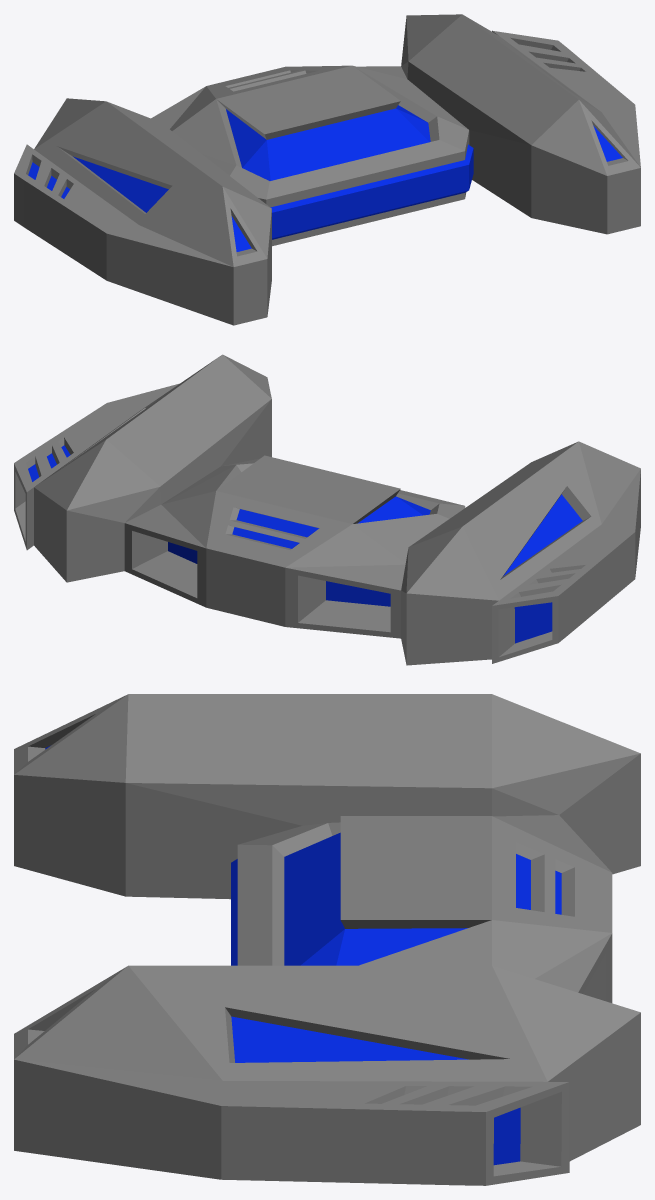
Rendered from playerShip02.fbx.
3 views of the same model, one above another, from view 1: azimuth 30°, elevation 25°; view 2: azimuth 150°, elevation 25°; view 3: azimuth 270°, elevation 25° (orthographic). The views are drawn at different scales.
Visible parts, largest first — view 1: pCube4; view 2: pCube4; view 3: pCube4.
Boxes of the visible parts, x1=… form: pCube4: x1=14, y1=14, x2=640, y2=325; pCube4: x1=14, y1=354, x2=640, y2=665; pCube4: x1=14, y1=694, x2=640, y2=1185.
Bounding box in the file's own units: 4.66 × 0.867 × 2.97.
